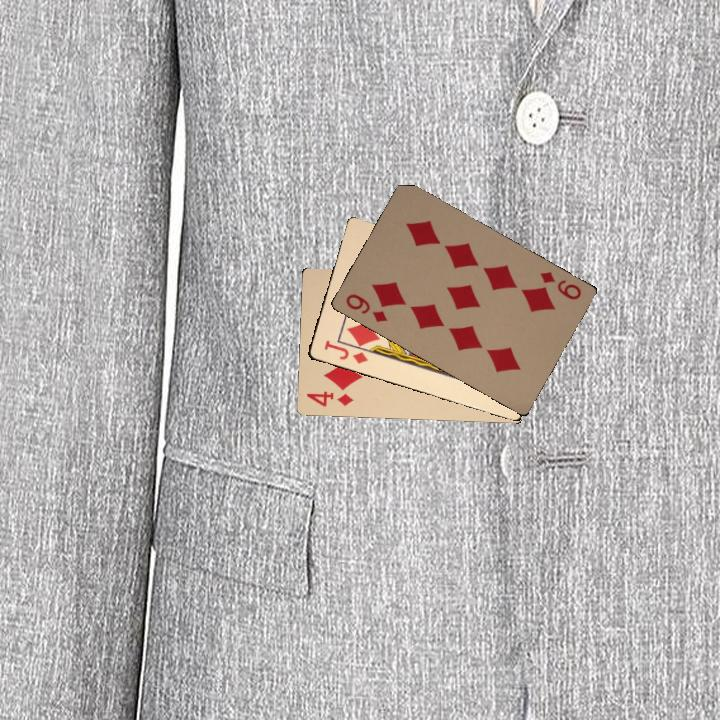4d: (302, 387, 356, 409)
9d: (341, 290, 390, 325), (536, 267, 584, 302)
Jd: (320, 336, 370, 367)
